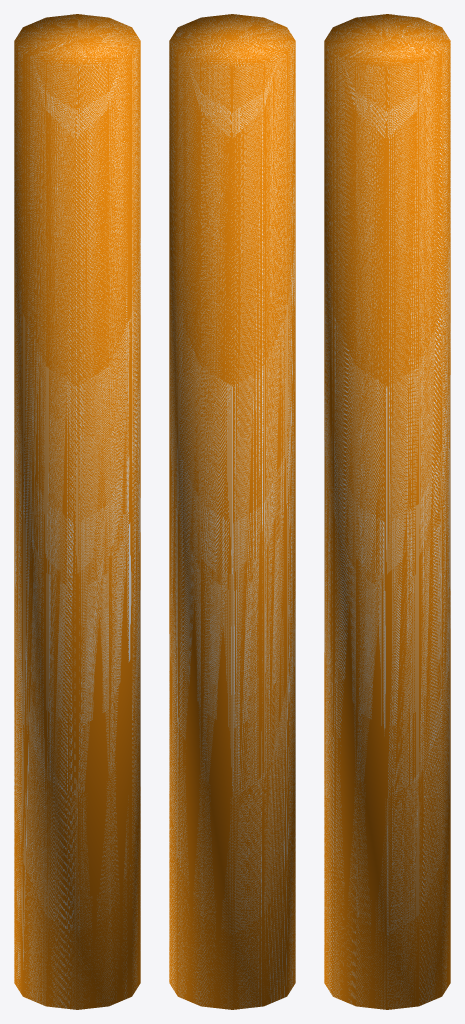
Rendered from original-30.obj.
3 renders of one model, left to right at view 1: azimuth 30°, elevation 25°; view 2: azimuth 150°, elevation 25°; view 3: azimuth 330°, elevation 25°, orthographic.
Parts seen in each view (by area): view 1: mesh27/mesh27-geometry#mesh27-geometry; view 2: mesh27/mesh27-geometry#mesh27-geometry; view 3: mesh27/mesh27-geometry#mesh27-geometry.
Part boxes in pixels (<box>): mesh27/mesh27-geometry#mesh27-geometry: <box>14,14,140,1009</box>; mesh27/mesh27-geometry#mesh27-geometry: <box>169,14,295,1009</box>; mesh27/mesh27-geometry#mesh27-geometry: <box>324,14,450,1009</box>.
Size of the model in its own units: 0.016 by 0.1323 by 0.016.
